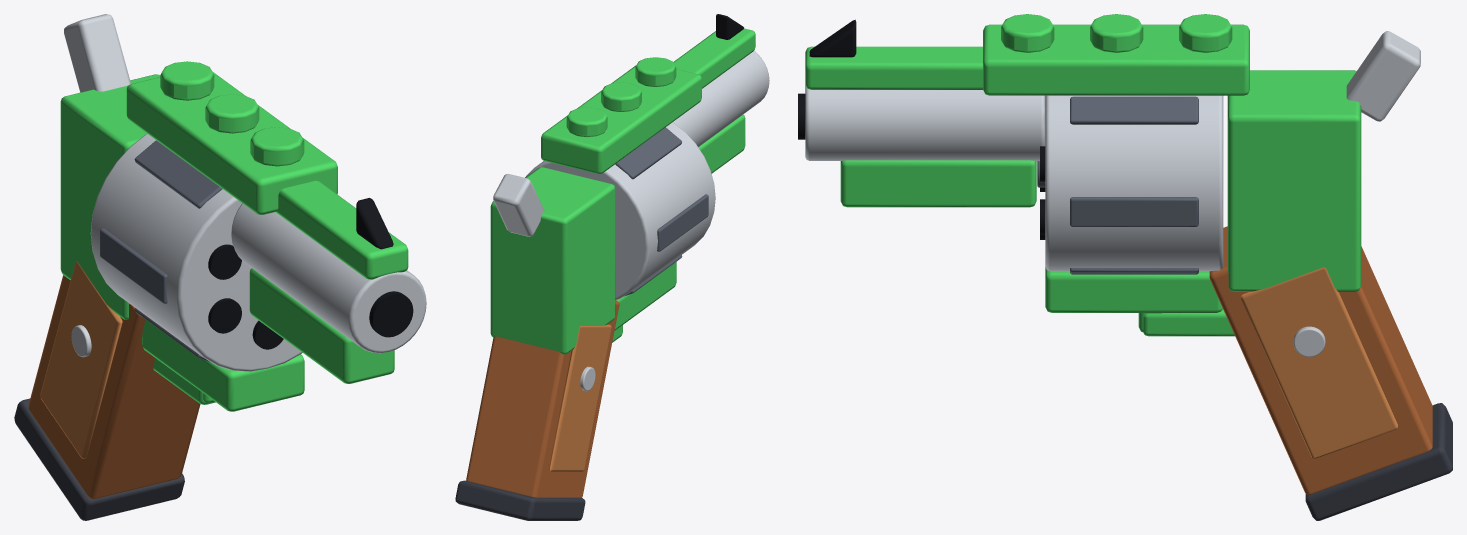
Rendered from Revolver.fbx.
3 views of the same model, side by side, from view 1: azimuth 30°, elevation 25°; view 2: azimuth 150°, elevation 25°; view 3: azimuth 270°, elevation 25° (orthographic). The views are drawn at different scales.
Visible parts, largest first — view 1: Revolver_SmoothPlastic, Revolver_Metal, Revolver_Plastic; view 2: Revolver_SmoothPlastic, Revolver_Metal, Revolver_Plastic; view 3: Revolver_SmoothPlastic, Revolver_Metal, Revolver_Plastic.
Part boxes in pixels (x1,y1,x2,y2): Revolver_SmoothPlastic: [60, 61, 413, 411]; Revolver_Metal: [14, 14, 426, 520]; Revolver_Plastic: [28, 261, 200, 498]; Revolver_SmoothPlastic: [490, 14, 755, 354]; Revolver_Metal: [455, 51, 769, 520]; Revolver_Plastic: [466, 300, 619, 497]; Revolver_SmoothPlastic: [798, 14, 1361, 336]; Revolver_Metal: [805, 31, 1452, 520]; Revolver_Plastic: [1209, 226, 1432, 494].
Size of the model in its own units: 0.472 by 1.18 by 1.47.
3 materials, 3 textured.
